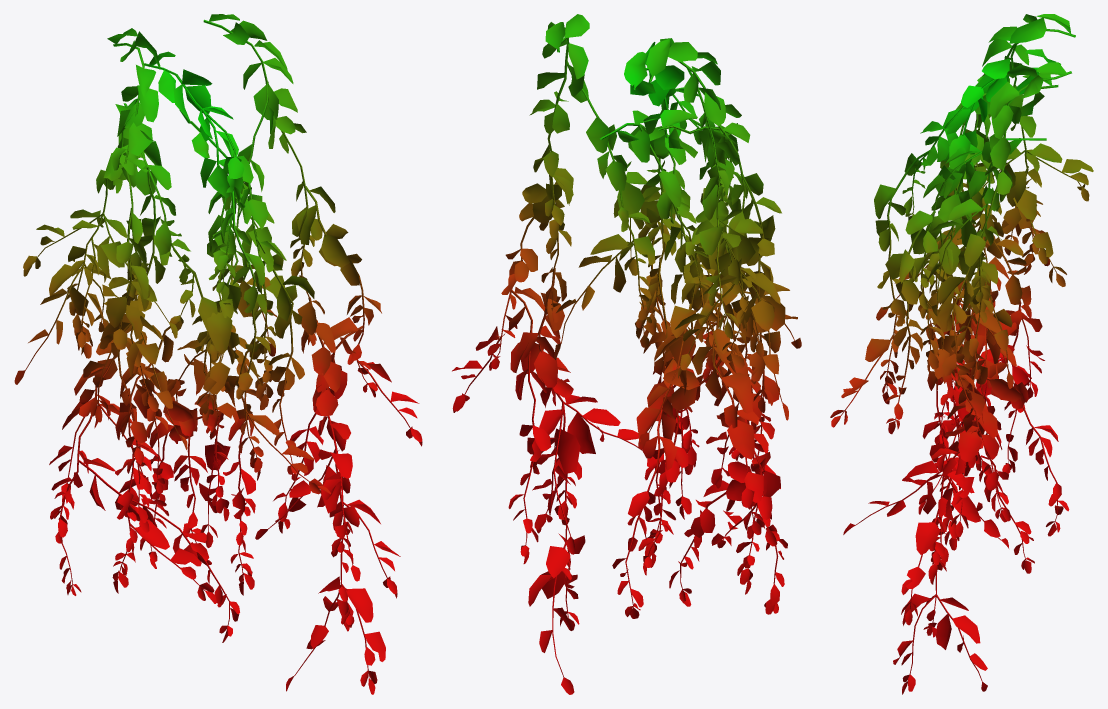
The model's file is Var4_LOD2.fbx.
3 renders of one model, left to right at view 1: azimuth 30°, elevation 25°; view 2: azimuth 150°, elevation 25°; view 3: azimuth 270°, elevation 25°, orthographic. The views are drawn at different scales.
Visible parts, largest first — view 1: _c2wn_Var4_LOD2; view 2: _c2wn_Var4_LOD2; view 3: _c2wn_Var4_LOD2.
Boxes of the visible parts, x1=… form: _c2wn_Var4_LOD2: x1=14, y1=14, x2=422, y2=694; _c2wn_Var4_LOD2: x1=452, y1=14, x2=801, y2=694; _c2wn_Var4_LOD2: x1=830, y1=14, x2=1093, y2=694.
Size of the model in its own units: 78.69 by 139 by 53.53.
